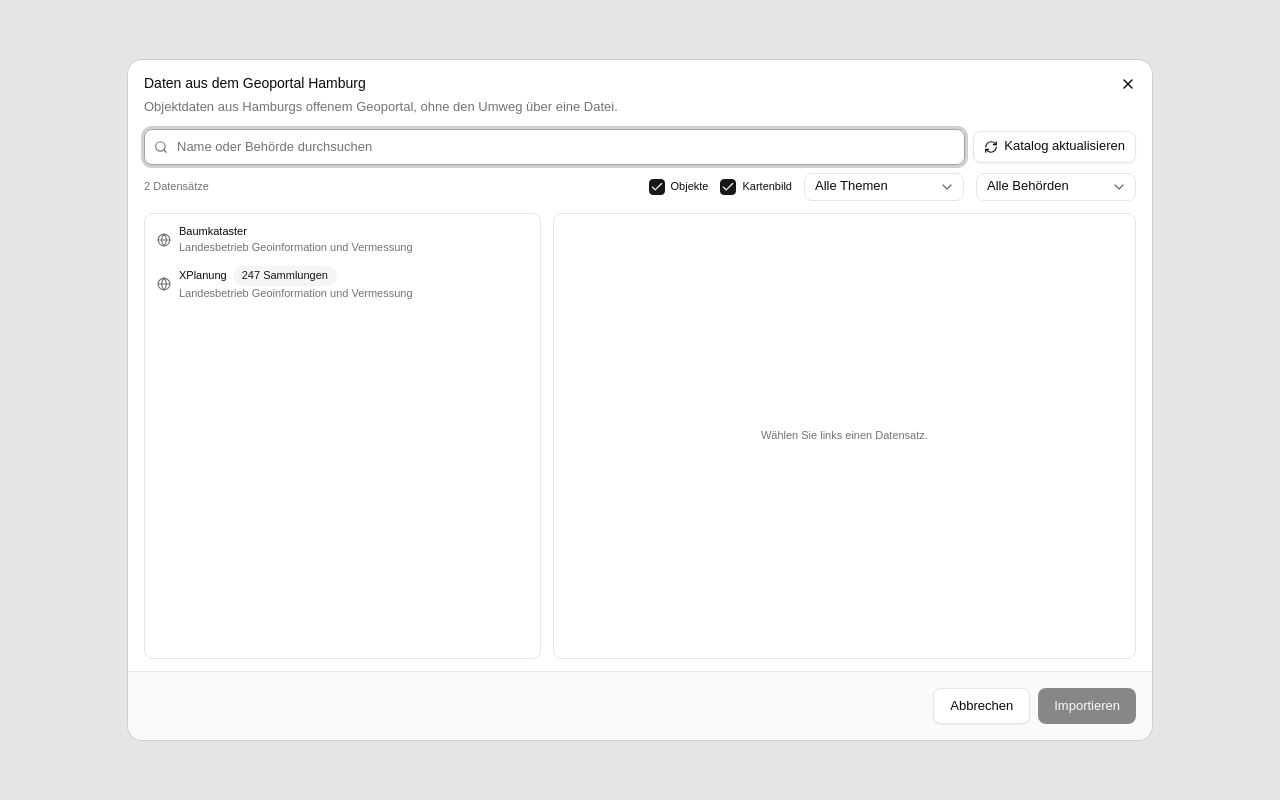
Scenario: GeoportalDialog Kartenausschnitt bei Neigung › weist auf ein großes Gebiet hin, wenn die Neigung den Ausschnitt aufgebläht hat
This screenshot has width=1280, height=800.
Click the button "Baumkataster Landesbetrieb Geoinformation und Vermessung".
click(342, 240)  # box [149, 218, 536, 262]
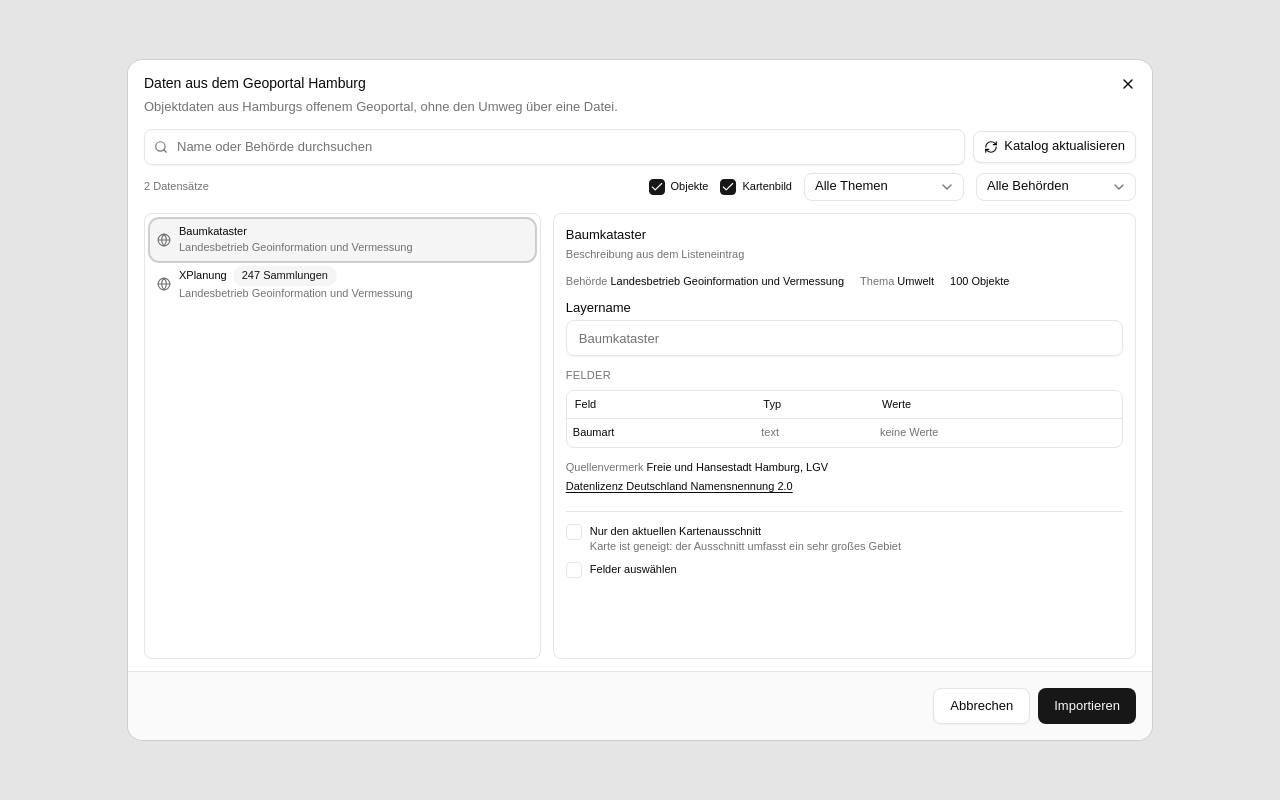
expect the text "sehr großes Gebiet" is shown: met, box [590, 540, 901, 552]
